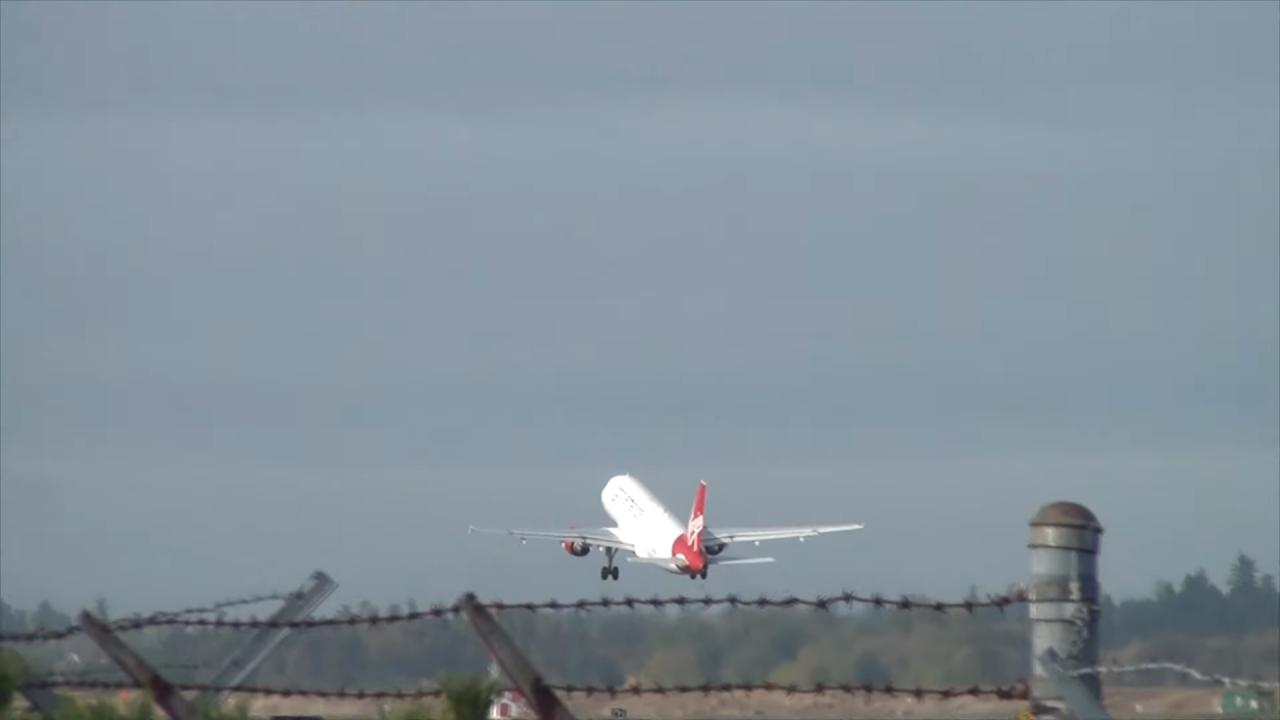Airplane: (456, 458, 879, 598)
